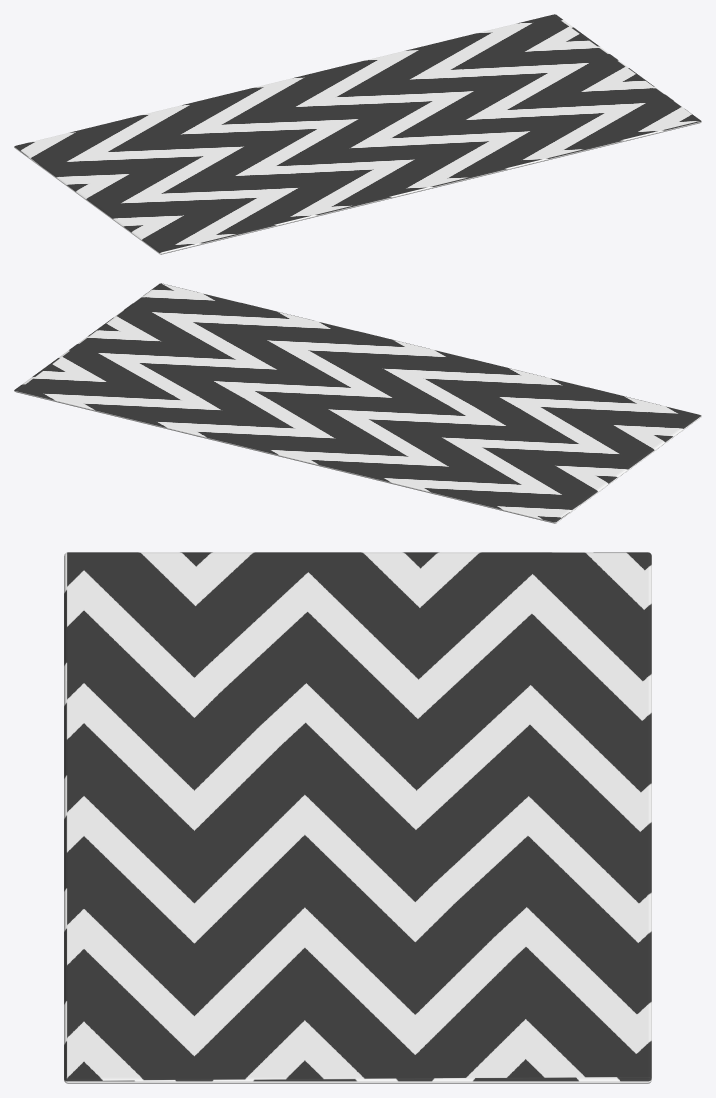
The model's file is tapete.fbx.
The picture shows the model from 3 angles, top to bottom: view 1: azimuth 30°, elevation 25°; view 2: azimuth 150°, elevation 25°; view 3: azimuth 270°, elevation 25°; orthographic projection. The views are drawn at different scales.
Parts seen in each view (by area): view 1: Cube; view 2: Cube; view 3: Cube.
Boxes of the visible parts, x1,y1,x2,y2 form: Cube: (14,14,701,254); Cube: (14,283,701,523); Cube: (64,552,651,1083).
Size of the model in its own units: 1281 by 4.97 by 601.
2 materials, 1 textured.
